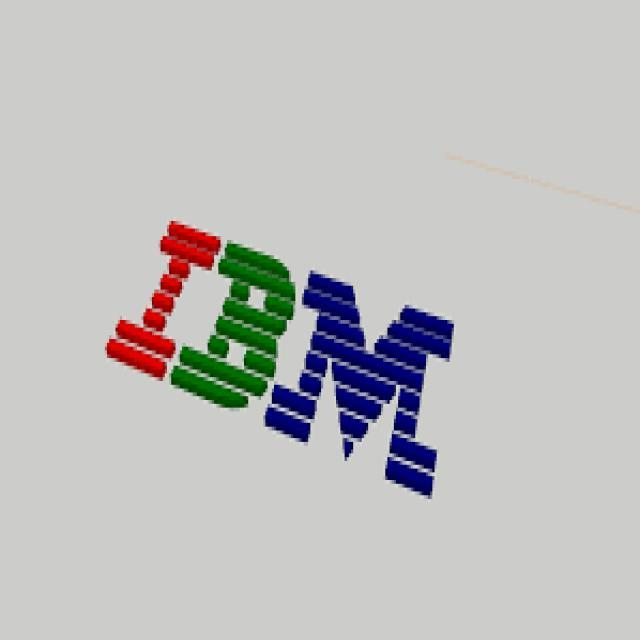ibm: (109, 220, 456, 498)
